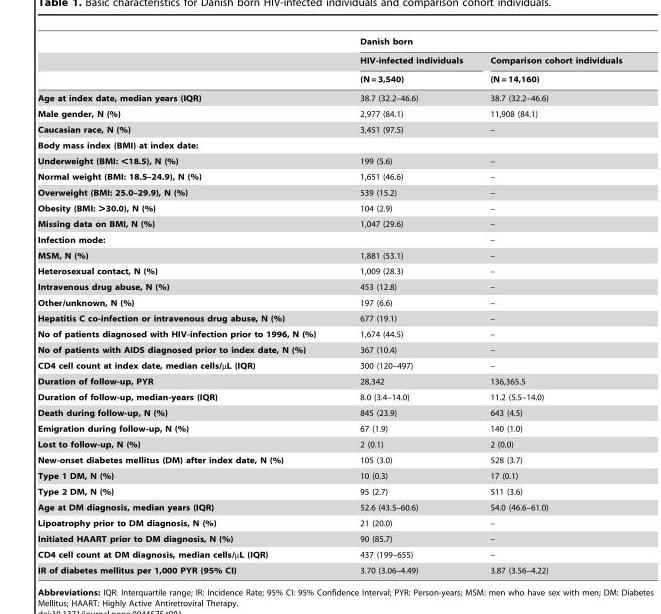table: (37, 36, 621, 574)
table column: (37, 36, 337, 574), (475, 36, 621, 574), (337, 36, 475, 574)
table column header: (37, 36, 621, 88)
table projected row header: (37, 137, 621, 152)
table row: (37, 50, 621, 69), (37, 69, 621, 88), (37, 88, 621, 105), (37, 356, 621, 373), (37, 545, 621, 562), (37, 105, 621, 121), (37, 121, 621, 137), (37, 152, 621, 168), (37, 168, 621, 184), (37, 184, 621, 200), (37, 200, 621, 216), (37, 231, 621, 247), (37, 247, 621, 263), (37, 278, 621, 294), (37, 294, 621, 310), (37, 310, 621, 326), (37, 373, 621, 389), (37, 404, 621, 420), (37, 420, 621, 436), (37, 436, 621, 452), (37, 467, 621, 483), (37, 483, 621, 499), (37, 499, 621, 515), (37, 137, 621, 152), (37, 216, 621, 231), (37, 263, 621, 278), (37, 326, 621, 341), (37, 341, 621, 356), (37, 389, 621, 404), (37, 452, 621, 467), (37, 515, 621, 530), (37, 530, 621, 545), (37, 36, 621, 50), (37, 562, 621, 574)
table spanning cell: (475, 50, 621, 88), (337, 50, 475, 88), (337, 36, 621, 50)
